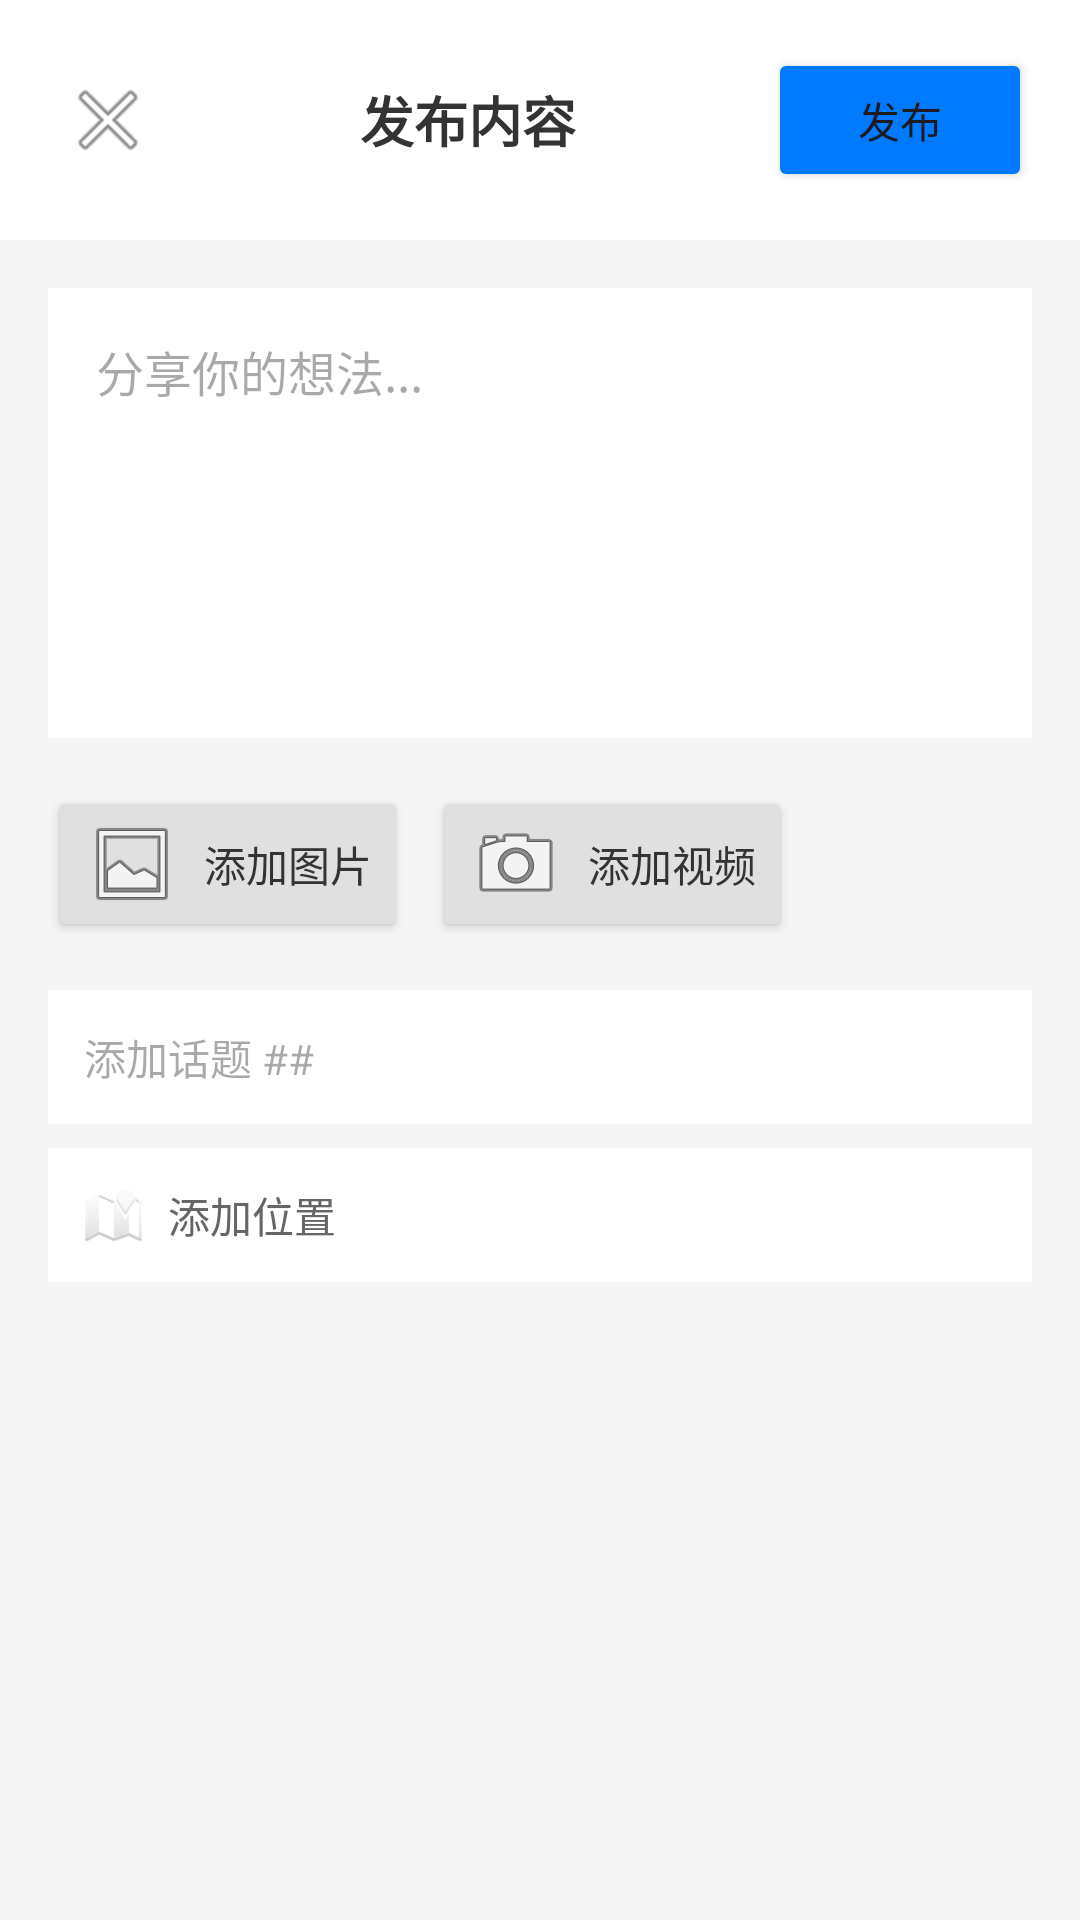

Icons on this 1080×1920 Android screen, each with the point to tap as (x,y):
取消: (108,120)
